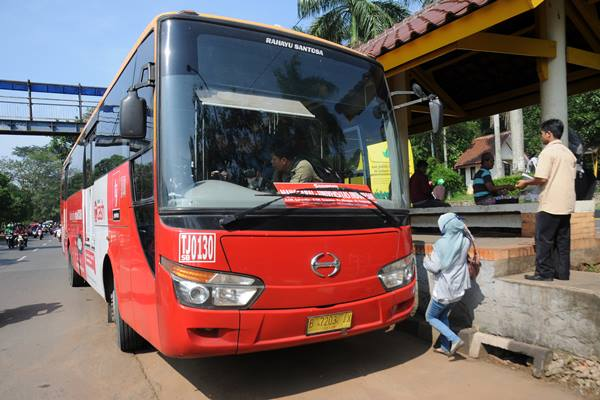plate: (306, 311, 351, 333)
